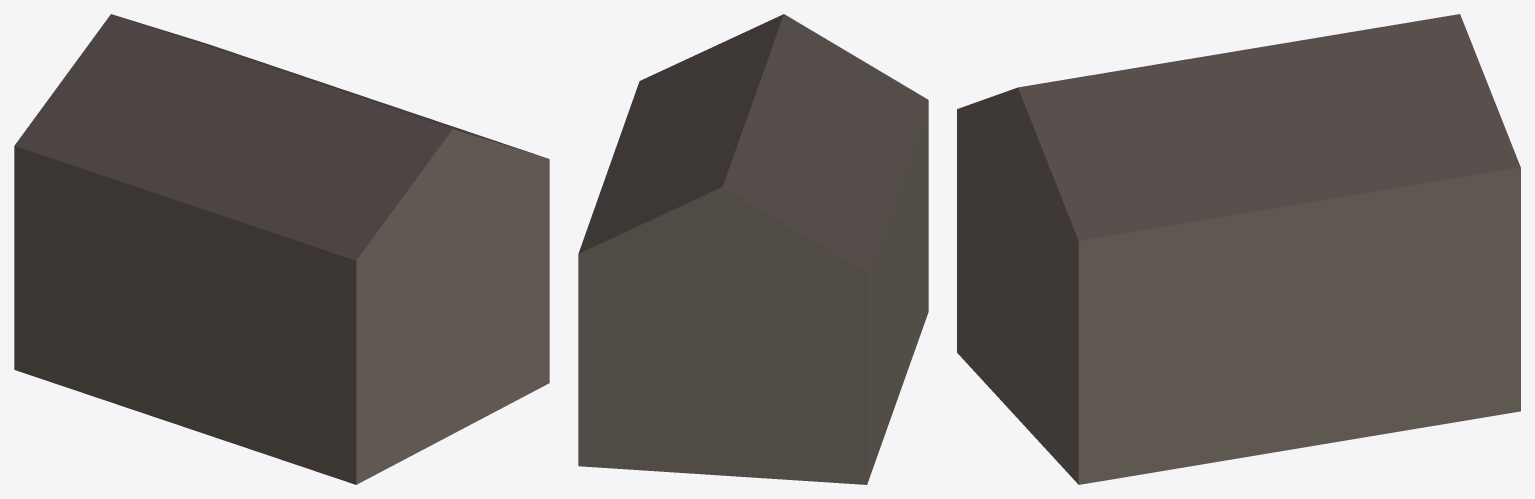
3 renders of one model, left to right at view 1: azimuth 30°, elevation 25°; view 2: azimuth 150°, elevation 25°; view 3: azimuth 270°, elevation 25°, orthographic. The views are drawn at different scales.
Parts seen in each view (by area): view 1: HP-w1395805678; view 2: HP-w1395805678; view 3: HP-w1395805678.
Part boxes in pixels (left/top/right/bottom): HP-w1395805678: left=14, top=14, right=549, bottom=484; HP-w1395805678: left=578, top=14, right=928, bottom=484; HP-w1395805678: left=957, top=14, right=1520, bottom=484.
Size of the model in its own units: 10.86 by 8.16 by 12.58.
